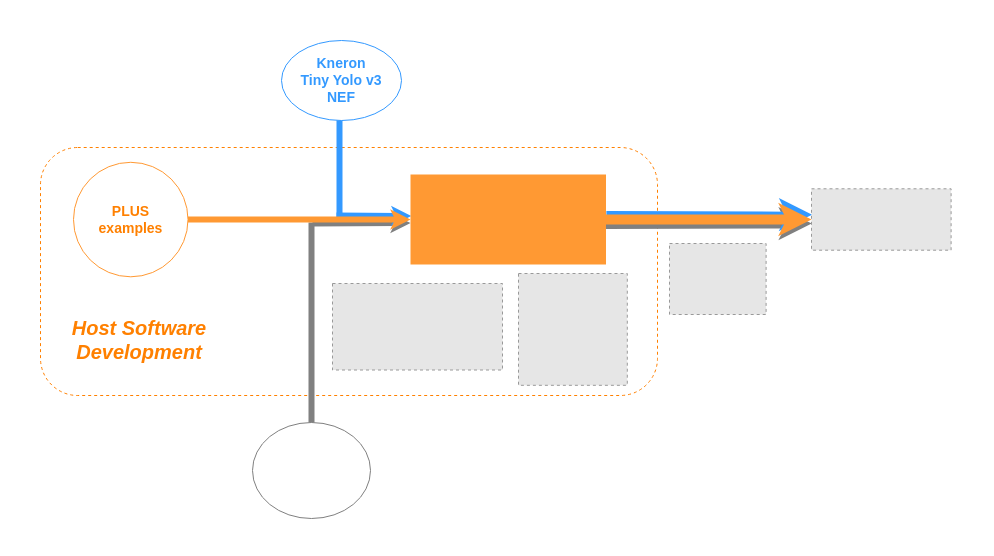
The diagram is 994 pixels wide and 556 high, and some of its shapes have lost their labels. Grey dashed boxes stand in for pictures. The centre of each missing label's shape, as x and y in pixels:
"KDP2 Firmware Binaries" goes at [311,470].
"Kneron PLUS" goes at [508,219].
